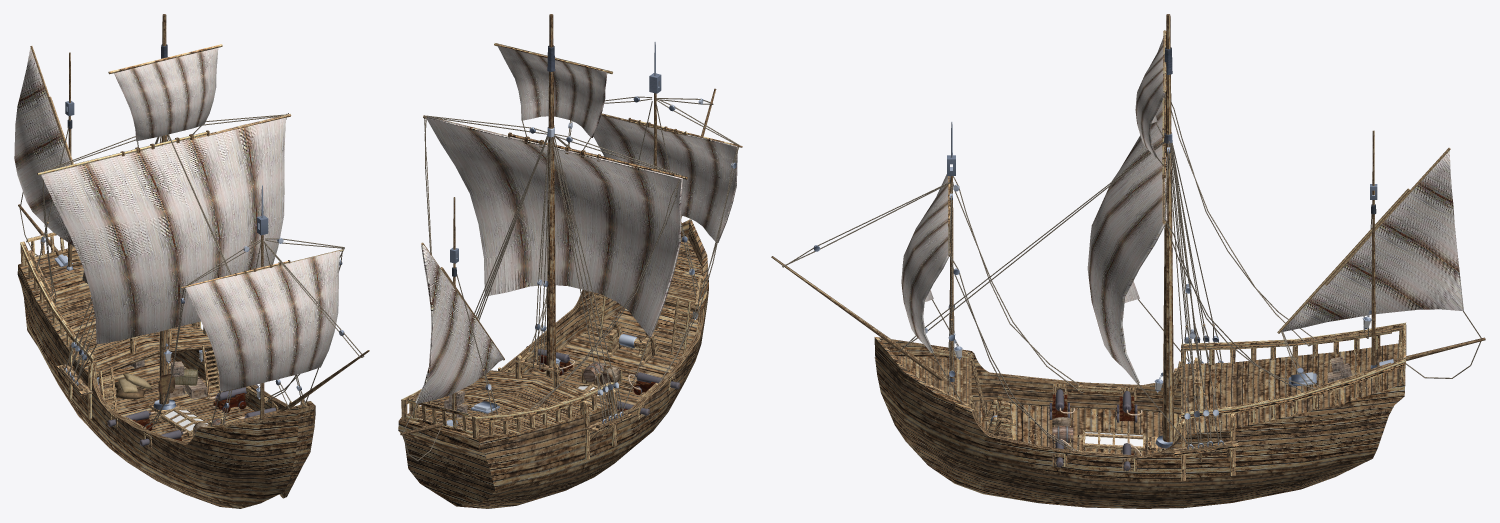
File: ship_02.fbx
3 renders of one model, left to right at view 1: azimuth 30°, elevation 25°; view 2: azimuth 150°, elevation 25°; view 3: azimuth 270°, elevation 25°, orthographic. The views are drawn at different scales.
Parts seen in each view (by area): view 1: polySurface363, polySurface488, polySurface544, polySurface523, polySurface570, polySurface708, polySurface707; view 2: polySurface488, polySurface363, polySurface544, polySurface523, polySurface688, polySurface545, polySurface707, polySurface708; view 3: polySurface488, polySurface523, polySurface363, polySurface544, polySurface707.
Part boxes in pixels (x1,y1,x2,y2): polySurface363: (37, 44, 291, 344); polySurface488: (17, 14, 369, 508); polySurface544: (181, 249, 343, 391); polySurface523: (14, 46, 74, 247); polySurface570: (98, 345, 221, 412); polySurface708: (209, 384, 275, 419); polySurface707: (107, 410, 187, 446); polySurface488: (398, 14, 738, 508); polySurface363: (423, 43, 687, 336); polySurface544: (593, 113, 742, 242); polySurface523: (415, 242, 504, 403); polySurface688: (587, 292, 691, 354); polySurface545: (581, 362, 622, 385); polySurface707: (617, 372, 680, 415); polySurface708: (526, 346, 575, 375); polySurface488: (771, 14, 1485, 508); polySurface523: (1277, 147, 1463, 333); polySurface363: (1087, 30, 1170, 384); polySurface544: (901, 174, 950, 352); polySurface707: (1049, 389, 1142, 422).
Bounding box in the file's own units: 17.13 × 27.68 × 38.27.
